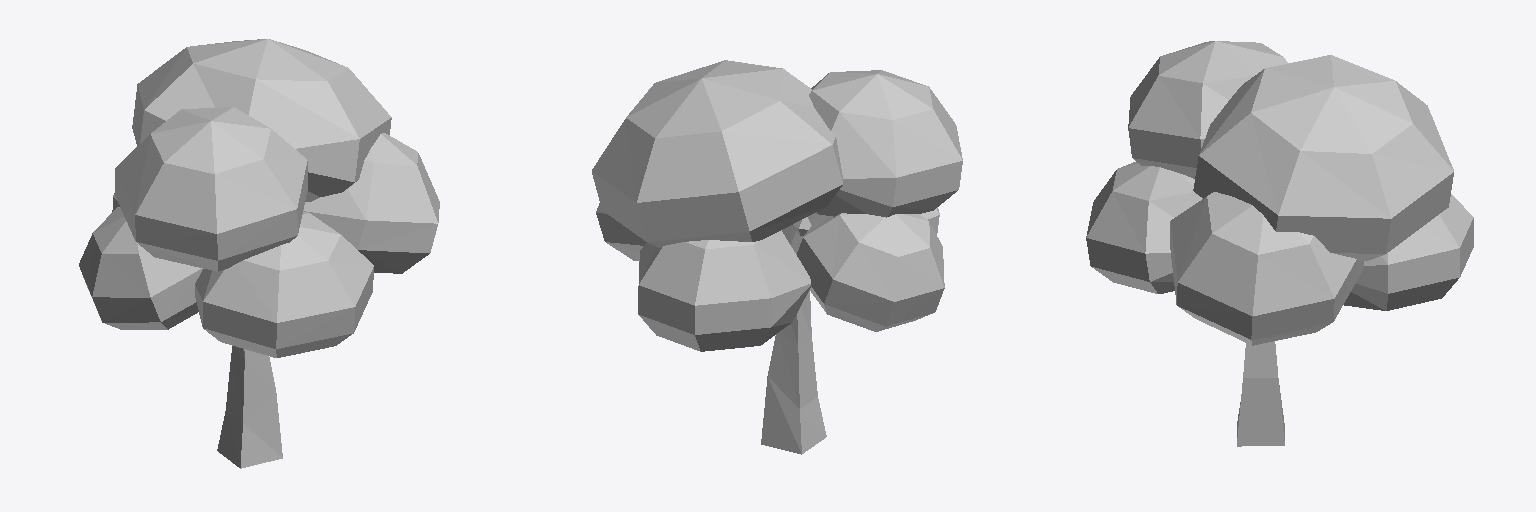
File: tree_D.obj
3 views of the same model, side by side, from view 1: azimuth 30°, elevation 25°; view 2: azimuth 150°, elevation 25°; view 3: azimuth 270°, elevation 25° (orthographic).
Visible parts, largest first — view 1: tree_D_Cube.14211; view 2: tree_D_Cube.14211; view 3: tree_D_Cube.14211.
Part boxes in pixels (left/top/right/bottom): tree_D_Cube.14211: left=79, top=39, right=439, bottom=468; tree_D_Cube.14211: left=592, top=60, right=962, bottom=454; tree_D_Cube.14211: left=1086, top=41, right=1473, bottom=446.
Bounding box in the file's own units: 1.02 × 1.07 × 1.